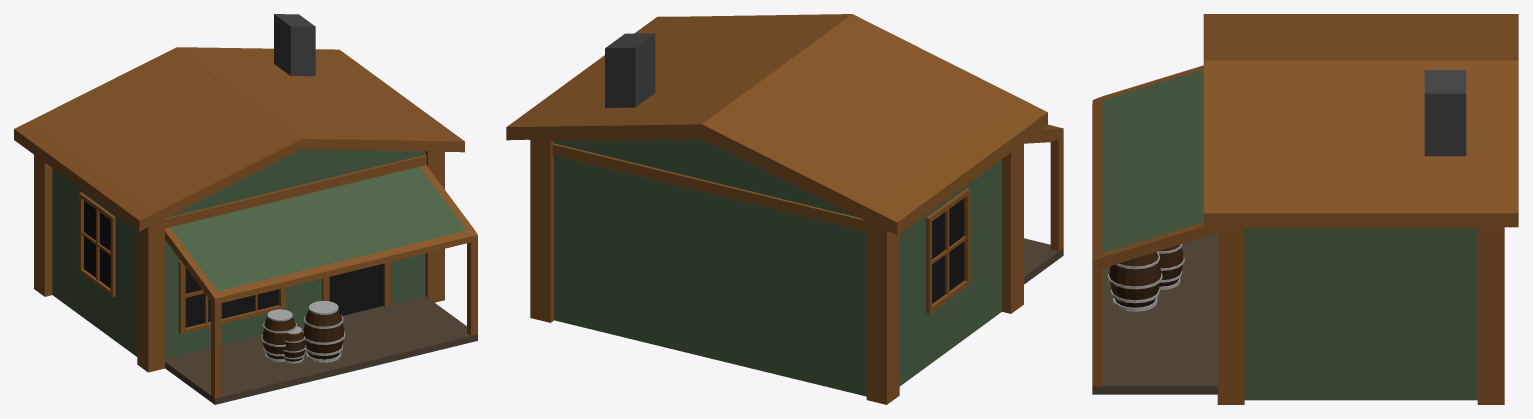
Rendered from House.fbx.
The picture shows the model from 3 angles, left to right: view 1: azimuth 30°, elevation 25°; view 2: azimuth 150°, elevation 25°; view 3: azimuth 270°, elevation 25°; orthographic projection. The views are drawn at different scales.
Visible parts, largest first — view 1: House, Big barrel, Lil Barrel, Lil Barrel.001; view 2: House; view 3: House, Big barrel, Lil Barrel.
Boxes of the visible parts, box(x1,y1,x2,y2) form: House: box(14, 14, 477, 404); Big barrel: box(302, 301, 345, 362); Lil Barrel: box(261, 309, 296, 362); Lil Barrel.001: box(283, 326, 306, 363); House: box(506, 14, 1063, 404); House: box(1092, 14, 1518, 404); Big barrel: box(1107, 251, 1162, 311); Lil Barrel: box(1157, 243, 1184, 289).
Size of the model in its own units: 694 by 471 by 626.
